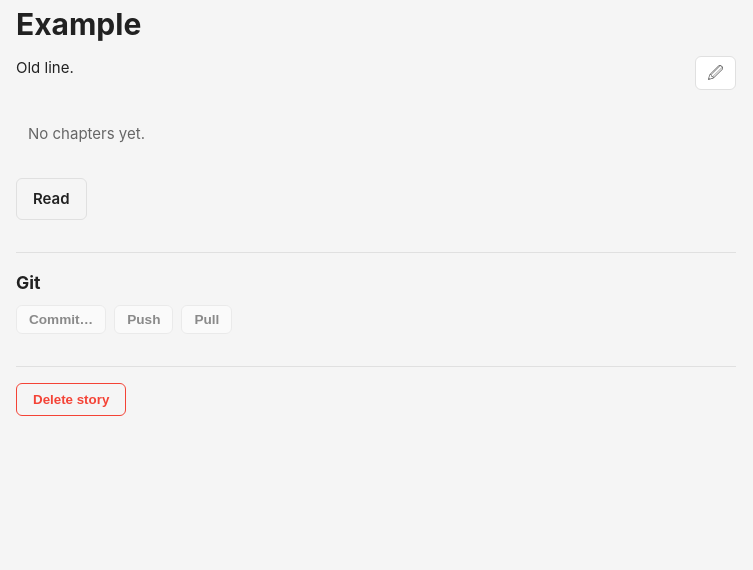
Test: DashboardView.vue › editing the synopsis or the context › changes nothing on Cancel
Click the button named "Edit synopsis".
click(716, 73)  # box [695, 56, 736, 90]
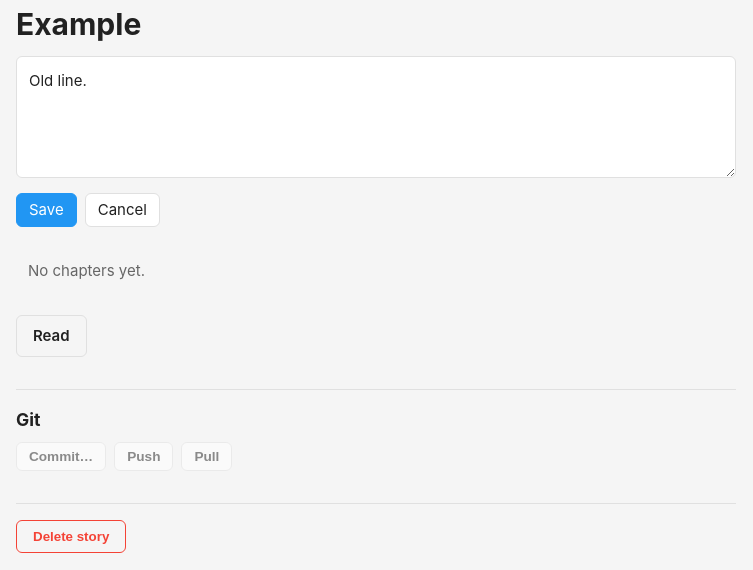
Replace the text in the text box named "Edit synopsis" with "Discarded." at (376, 117), box [16, 56, 736, 178]
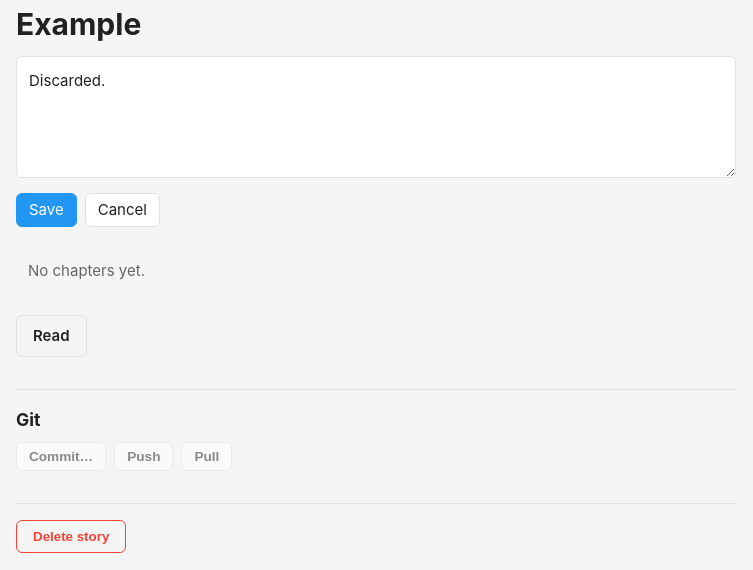
Click the button "Cancel".
click(122, 210)  # box [85, 193, 160, 227]
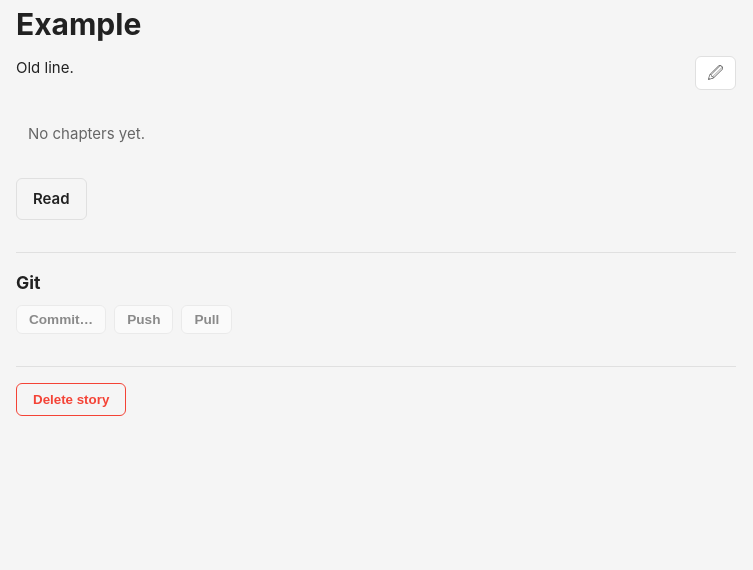
Result: the text "Old line." is shown at [16, 58, 74, 77]
